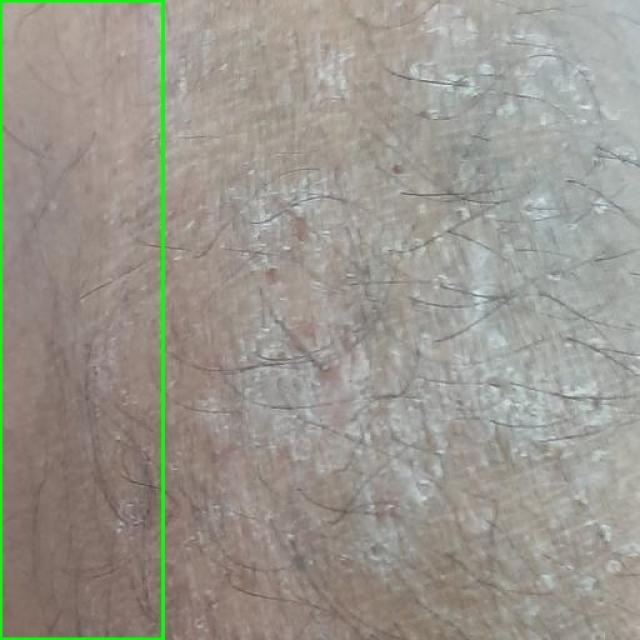Contact Dermatitis: (0, 0, 162, 639)
